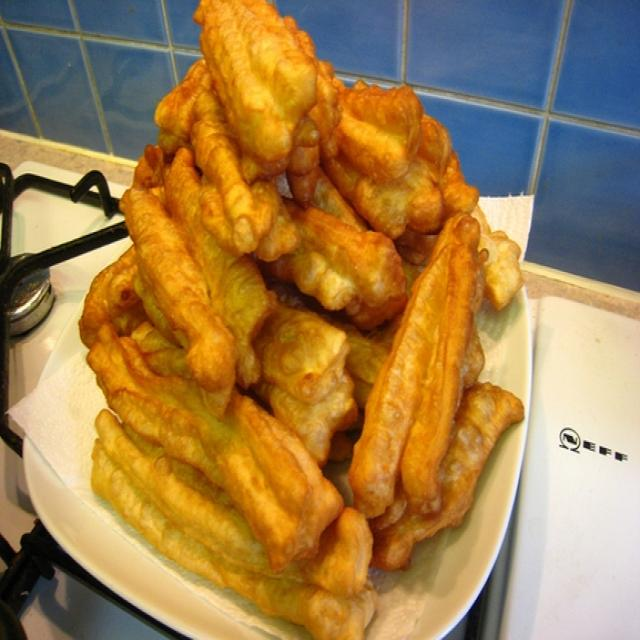炸货点心: (48, 18, 566, 625)
